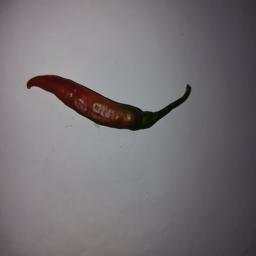Buah Cabai Sehat: (25, 72, 155, 132)
